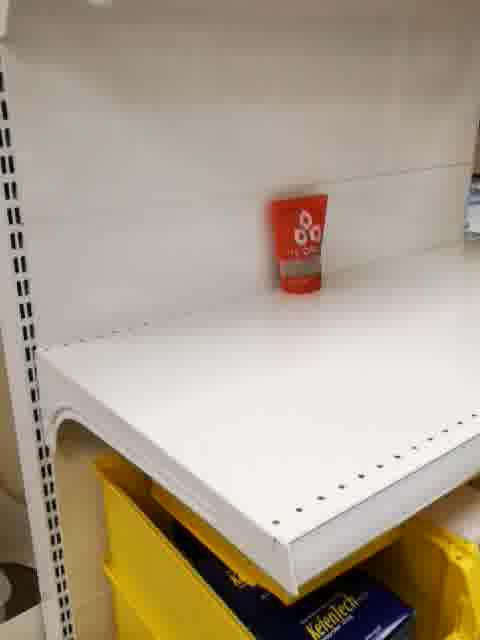whitechia: (268, 191, 330, 299)
